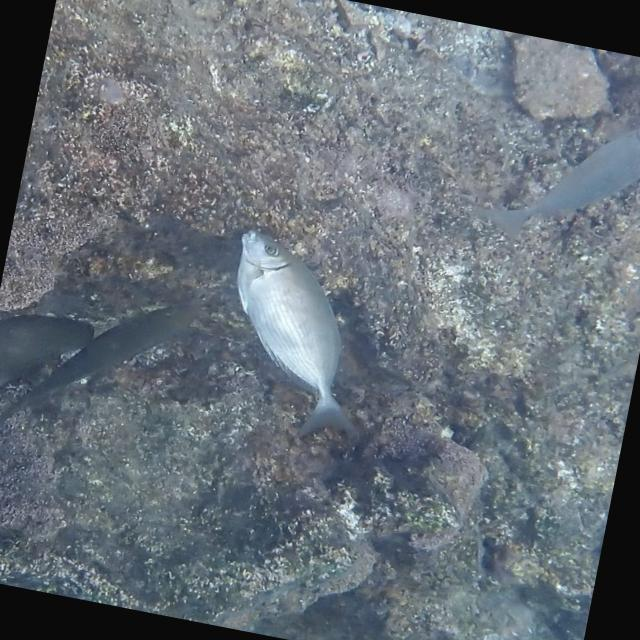Sokar Baligi: (190, 216, 410, 464)
